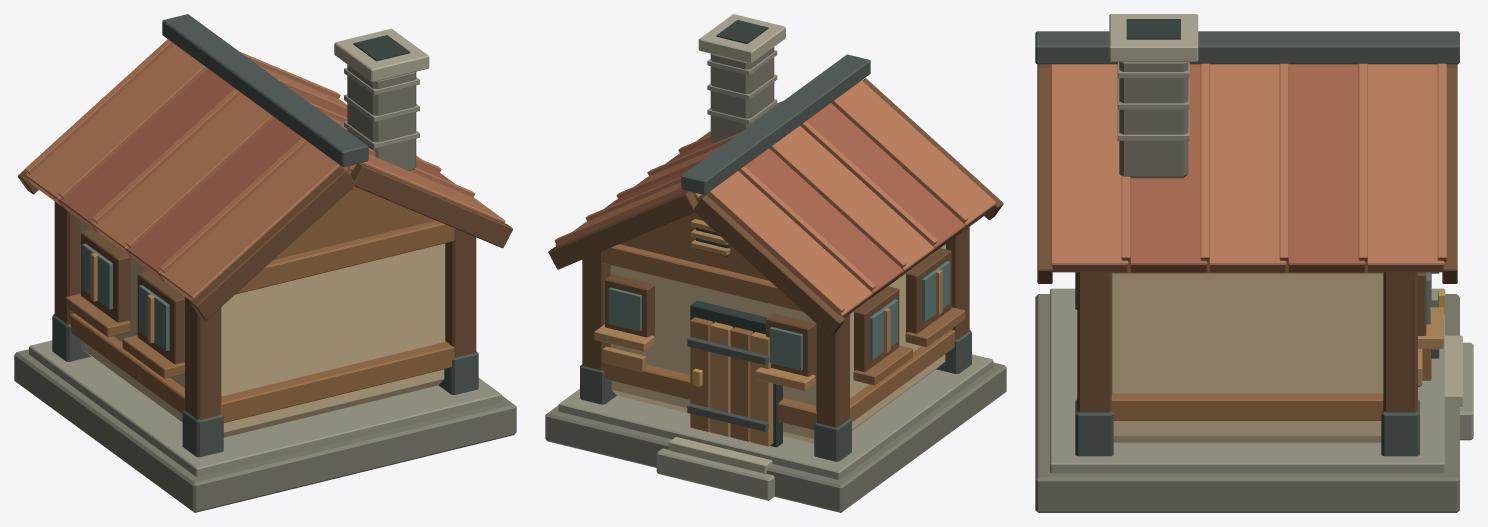
File: warm_core.glb
3 views of the same model, side by side, from view 1: azimuth 30°, elevation 25°; view 2: azimuth 150°, elevation 25°; view 3: azimuth 270°, elevation 25° (orthographic). The views are drawn at different scales.
Visible parts, largest first — view 1: core_sample_roof_light, core_sample_plaster, core_sample_wood_dark, core_sample_stone_dark, core_sample_wood, core_sample_stone, core_sample_roof, core_sample_iron, core_sample_stone_light, core_sample_glass, core_sample_dark, core_sample_wood_light; view 2: core_sample_roof_light, core_sample_wood_dark, core_sample_wood, core_sample_stone_dark, core_sample_stone, core_sample_roof, core_sample_iron, core_sample_plaster, core_sample_wood_light, core_sample_glass, core_sample_stone_light, core_sample_dark; view 3: core_sample_roof_light, core_sample_plaster, core_sample_stone_dark, core_sample_roof, core_sample_stone, core_sample_wood_dark, core_sample_iron, core_sample_wood, core_sample_stone_light, core_sample_dark, core_sample_wood_light.
Boxes of the visible parts, x1,y1,x2,y2 form: core_sample_roof_light: (24, 39, 505, 300); core_sample_plaster: (80, 220, 445, 437); core_sample_wood_dark: (18, 163, 512, 419); core_sample_stone_dark: (14, 64, 516, 512); core_sample_wood: (66, 169, 454, 422); core_sample_stone: (29, 68, 501, 476); core_sample_roof: (59, 69, 454, 281); core_sample_iron: (52, 14, 478, 457); core_sample_stone_light: (334, 28, 429, 82); core_sample_glass: (82, 243, 169, 350); core_sample_dark: (353, 35, 410, 61); core_sample_wood_light: (90, 253, 154, 343); core_sample_roof_light: (554, 80, 996, 317); core_sample_wood_dark: (548, 78, 1003, 427); core_sample_wood: (602, 197, 965, 441); core_sample_stone_dark: (545, 47, 1006, 512); core_sample_stone: (558, 50, 993, 500); core_sample_roof: (586, 103, 965, 299); core_sample_iron: (580, 54, 971, 461); core_sample_plaster: (610, 244, 945, 443); core_sample_wood_light: (594, 219, 942, 446); core_sample_glass: (608, 261, 950, 370); core_sample_stone_light: (668, 14, 785, 473); core_sample_dark: (690, 20, 782, 447); core_sample_roof_light: (1050, 63, 1446, 272); core_sample_plaster: (1111, 273, 1383, 442); core_sample_stone_dark: (1035, 62, 1459, 512); core_sample_roof: (1129, 64, 1365, 272); core_sample_stone: (1050, 62, 1473, 473); core_sample_wood_dark: (1037, 64, 1457, 412); core_sample_iron: (1035, 31, 1459, 456); core_sample_wood: (1111, 262, 1431, 420); core_sample_stone_light: (1109, 14, 1462, 406); core_sample_dark: (1126, 19, 1420, 386); core_sample_wood_light: (1418, 307, 1443, 385).
Size of the model in its own units: 0.89 by 0.976 by 0.888.
